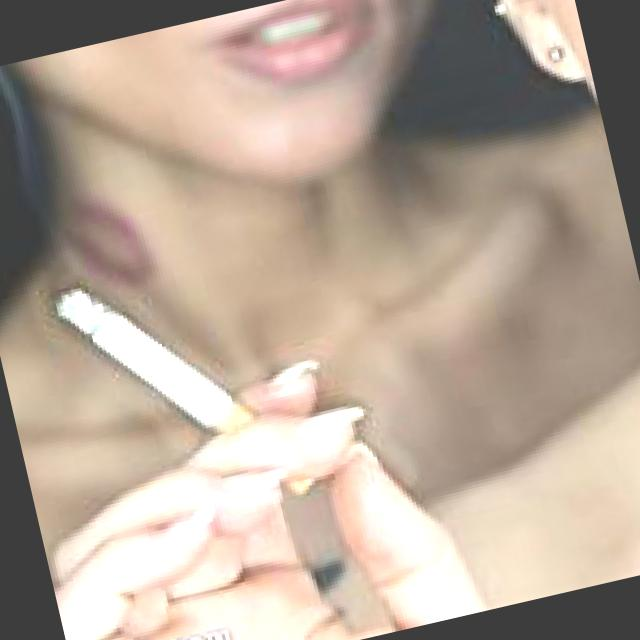cigarette: (18, 220, 331, 556)
